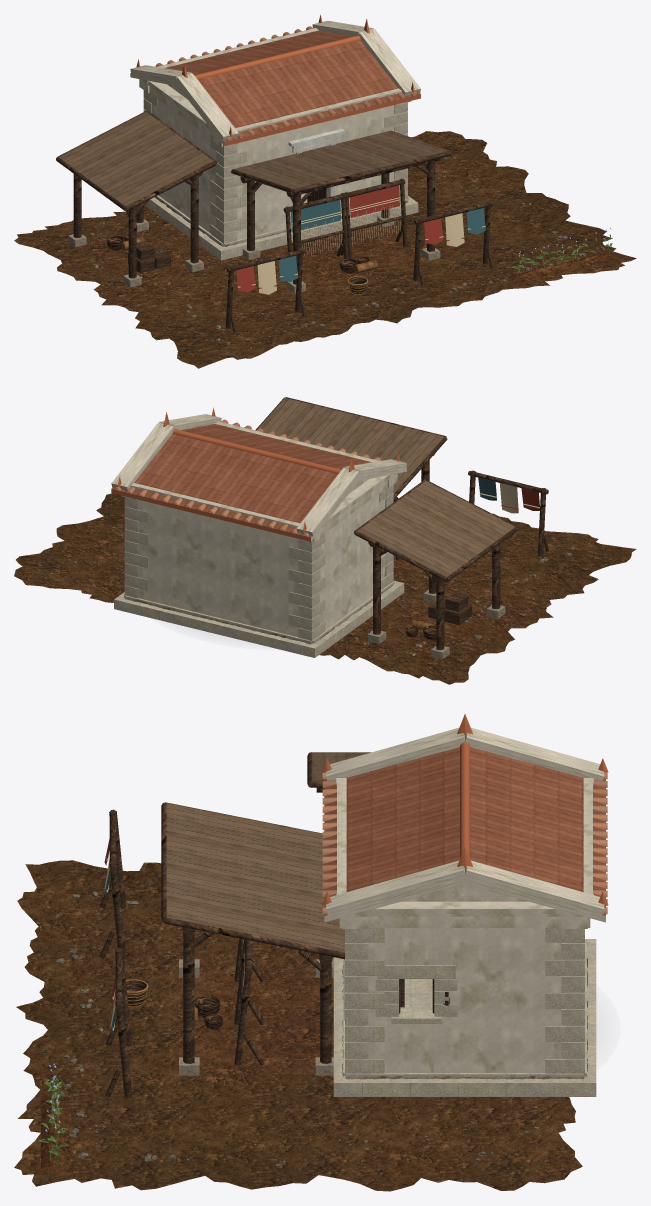
Rendered from weaver@2.glb.
3 renders of one model, top to bottom at view 1: azimuth 30°, elevation 25°; view 2: azimuth 150°, elevation 25°; view 3: azimuth 270°, elevation 25°, orthographic. The views are drawn at different scales.
Visible parts, largest first — view 1: part_1, part_6, part_10, part_20, part_7, part_9, part_5, part_15, part_21, part_17, part_16, part_4 (+5 smaller); view 2: part_6, part_1, part_10, part_20, part_5, part_7, part_9, part_21, part_4, part_22, part_15, part_2; view 3: part_1, part_6, part_20, part_5, part_10, part_9, part_7, part_22, part_21, part_4, part_2, part_12 (+1 smaller).
Part boxes in pixels (x1=…): part_1: x1=14, y1=131, x2=636, y2=368; part_6: x1=130, y1=20, x2=420, y2=239; part_10: x1=58, y1=111, x2=449, y2=206; part_20: x1=130, y1=30, x2=420, y2=141; part_7: x1=56, y1=111, x2=493, y2=333; part_9: x1=77, y1=225, x2=618, y2=290; part_5: x1=143, y1=90, x2=418, y2=260; part_15: x1=237, y1=197, x2=485, y2=294; part_21: x1=136, y1=15, x2=420, y2=146; part_17: x1=236, y1=185, x2=464, y2=292; part_16: x1=279, y1=200, x2=485, y2=282; part_4: x1=68, y1=196, x2=440, y2=293; part_6: x1=111, y1=414, x2=406, y2=636; part_1: x1=14, y1=493, x2=636, y2=684; part_10: x1=257, y1=398, x2=514, y2=577; part_20: x1=111, y1=424, x2=406, y2=537; part_5: x1=114, y1=485, x2=404, y2=657; part_7: x1=255, y1=397, x2=548, y2=650; part_9: x1=381, y1=555, x2=495, y2=654; part_21: x1=111, y1=407, x2=400, y2=541; part_4: x1=124, y1=584, x2=505, y2=659; part_22: x1=114, y1=419, x2=380, y2=536; part_15: x1=479, y1=483, x2=539, y2=513; part_2: x1=68, y1=535, x2=574, y2=659; part_1: x1=14, y1=860, x2=582, y2=1191; part_6: x1=324, y1=727, x2=605, y2=1073; part_20: x1=324, y1=747, x2=605, y2=916; part_5: x1=333, y1=928, x2=596, y2=1096; part_10: x1=166, y1=752, x2=369, y2=952; part_9: x1=41, y1=974, x2=319, y2=1171; part_7: x1=99, y1=752, x2=449, y2=1097; part_22: x1=322, y1=772, x2=607, y2=914; part_21: x1=321, y1=714, x2=608, y2=905; part_4: x1=179, y1=943, x2=587, y2=1079; part_2: x1=46, y1=891, x2=537, y2=1167; part_12: x1=126, y1=980, x2=222, y2=1030.
Size of the model in its own units: 9.13 by 3.18 by 7.23.
23 materials, 14 textured.
